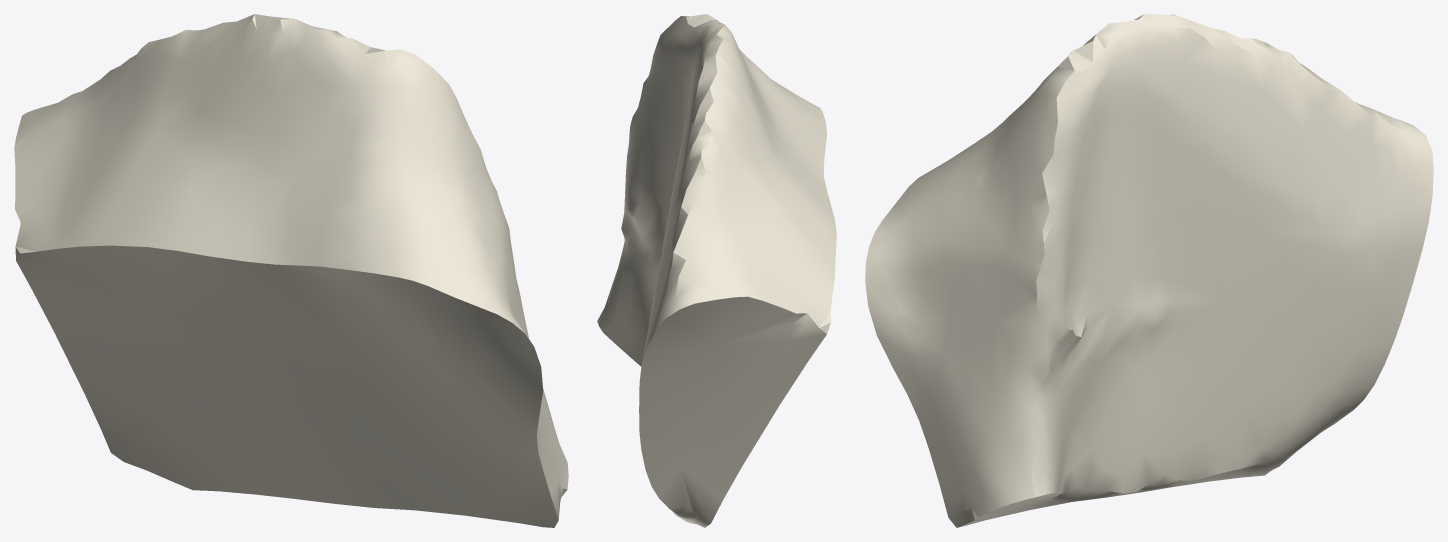
Rendered from fma16144_mm2358m.glb.
3 renders of one model, left to right at view 1: azimuth 30°, elevation 25°; view 2: azimuth 150°, elevation 25°; view 3: azimuth 270°, elevation 25°, orthographic. The views are drawn at different scales.
Parts seen in each view (by area): view 1: FMA16144_MM2358M; view 2: FMA16144_MM2358M; view 3: FMA16144_MM2358M.
Boxes of the visible parts, x1,y1,x2,y2 form: FMA16144_MM2358M: (14,14,568,527); FMA16144_MM2358M: (597,14,836,527); FMA16144_MM2358M: (865,14,1433,527).
Bounding box in the file's own units: 0.0127 × 0.0154 × 0.0169.
